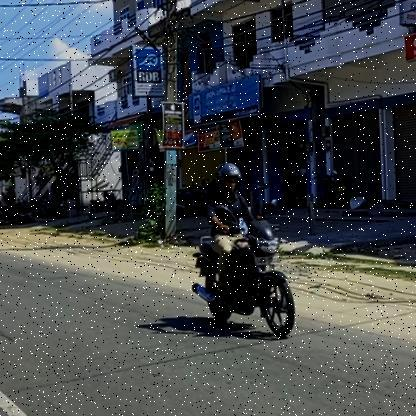motorcycle: (188, 218, 298, 340)
